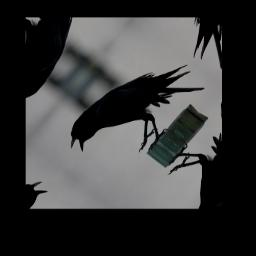Crow: (59, 35, 211, 186)
